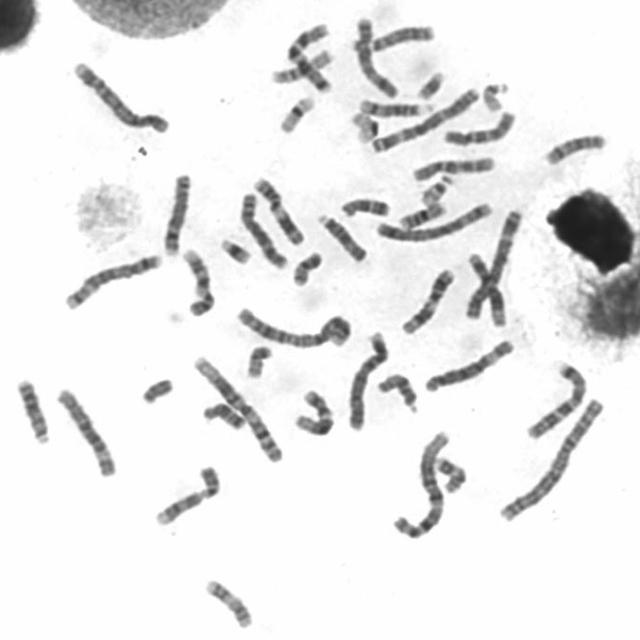A1: (188, 351, 286, 466), (387, 425, 452, 542)
A2: (495, 394, 607, 526), (230, 302, 355, 350)
A3: (367, 83, 482, 154), (460, 204, 526, 322)
B4: (68, 57, 171, 135), (342, 326, 390, 432)
B5: (60, 249, 164, 312), (369, 197, 495, 244)
C10: (438, 106, 519, 148), (407, 151, 497, 183)
C11: (248, 172, 307, 248), (396, 264, 457, 336)
C12: (462, 248, 509, 329), (289, 385, 335, 437)
C6: (52, 384, 119, 479), (419, 334, 517, 394)
C7: (521, 356, 591, 442), (281, 18, 335, 94)
C8: (235, 188, 290, 271), (158, 168, 195, 259)
C9: (149, 460, 222, 528), (177, 244, 216, 318)
D13: (11, 374, 52, 445), (363, 20, 436, 53)
D14: (540, 129, 609, 167), (354, 95, 436, 118)
D15: (313, 210, 369, 264), (373, 368, 421, 416)
E16: (266, 44, 336, 85), (394, 198, 450, 232)
E17: (200, 575, 254, 630), (430, 454, 471, 495)
E18: (198, 397, 248, 432), (336, 193, 392, 220)
F19: (274, 91, 317, 136), (346, 108, 380, 146)
F20: (288, 246, 325, 288), (242, 340, 274, 380)
G21: (412, 66, 448, 101), (215, 234, 253, 266)
G22: (417, 170, 457, 207), (478, 76, 511, 114)
X: (350, 13, 401, 100)
Y: (136, 373, 175, 406)
